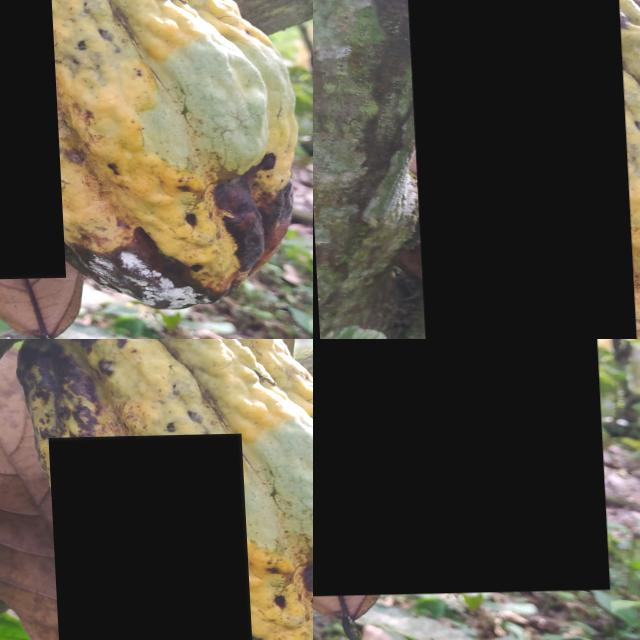Monilia: (313, 339, 604, 598), (46, 435, 252, 640)
Sana: (407, 0, 632, 339), (0, 0, 61, 282)
